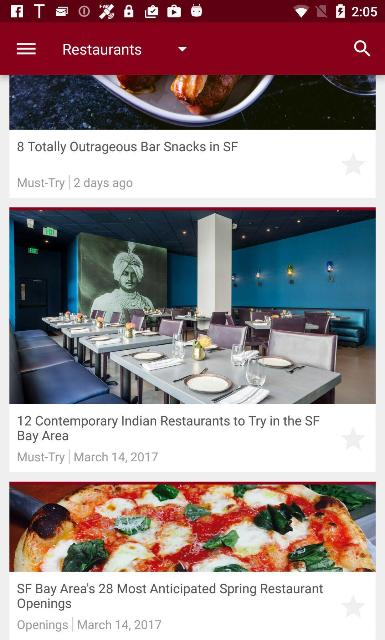Card: (10, 207, 376, 473), (10, 482, 376, 640), (10, 75, 376, 197)
Icon: (340, 594, 366, 616), (341, 152, 365, 175), (342, 427, 364, 449), (16, 42, 36, 56), (354, 41, 370, 58), (178, 46, 188, 52)
Image: (10, 207, 376, 403), (9, 482, 376, 572), (9, 74, 375, 130)
List: (0, 74, 385, 639)
Text: (17, 583, 323, 611), (18, 415, 320, 443), (18, 142, 238, 154), (74, 451, 158, 463), (78, 620, 162, 630), (63, 44, 141, 54), (74, 178, 132, 190), (18, 620, 68, 632), (17, 452, 64, 464), (17, 178, 64, 190)
Toolbar: (1, 24, 385, 74)
UpperTaskBar: (0, 0, 384, 22)
